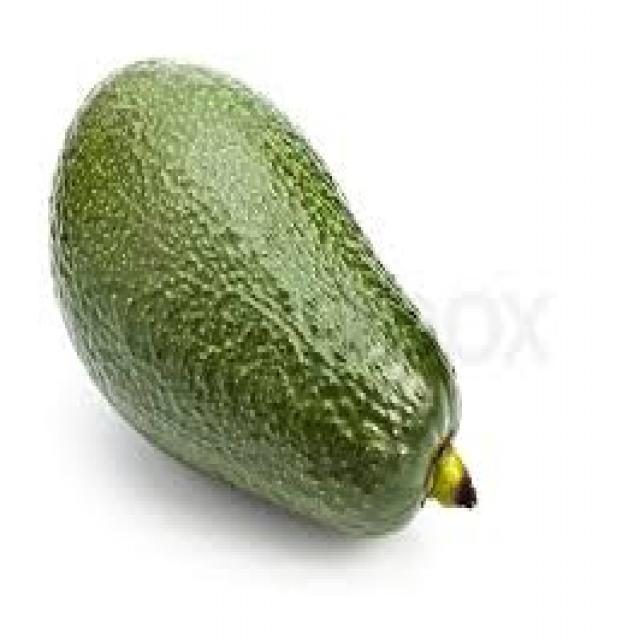organic waste: (44, 54, 476, 535)
